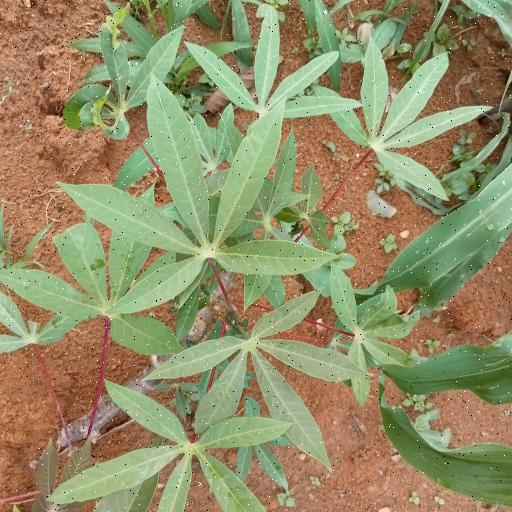Cassava_Mosaic: (154, 304, 358, 456)
